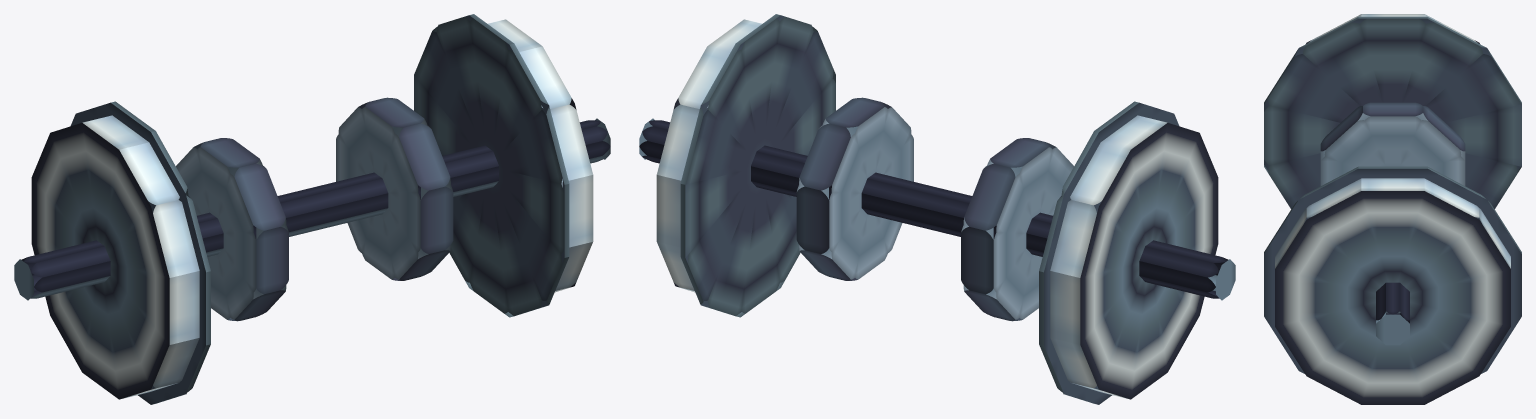
The model's file is sw220k_wheel.obj.
3 views of the same model, side by side, from view 1: azimuth 30°, elevation 25°; view 2: azimuth 150°, elevation 25°; view 3: azimuth 270°, elevation 25° (orthographic). The views are drawn at different scales.
Visible parts, largest first — view 1: cylinder; view 2: cylinder; view 3: cylinder.
Boxes of the visible parts, bbox=[...] form: cylinder: bbox=[14, 14, 610, 404]; cylinder: bbox=[639, 14, 1235, 404]; cylinder: bbox=[1264, 14, 1521, 404].
Bounding box in the file's own units: 2.21 × 1 × 1.
